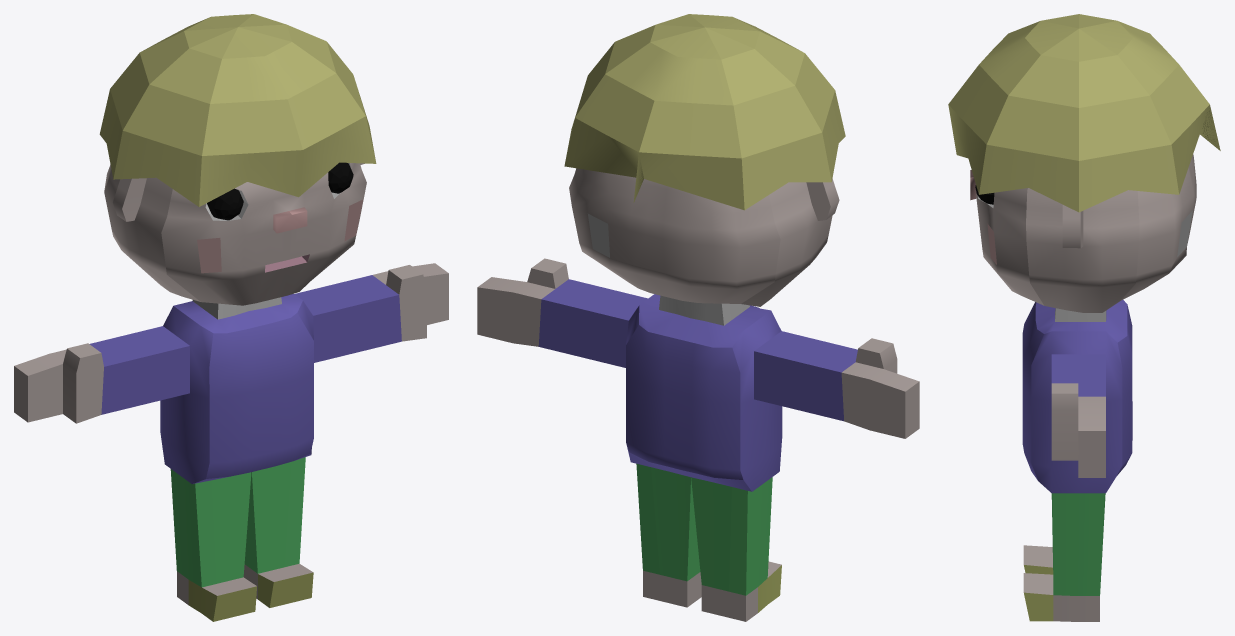
Rendered from boy.fbx.
The picture shows the model from 3 angles, left to right: view 1: azimuth 30°, elevation 25°; view 2: azimuth 150°, elevation 25°; view 3: azimuth 270°, elevation 25°; orthographic projection.
Parts seen in each view (by area): view 1: pSphere6, pSphere3, pSphere7, pSphere5; view 2: pSphere6, pSphere3; view 3: pSphere6, pSphere3.
Boxes of the visible parts, x1,y1,x2,y2 form: pSphere6: [14, 163, 448, 621]; pSphere3: [99, 14, 376, 206]; pSphere7: [207, 188, 243, 220]; pSphere5: [328, 162, 353, 193]; pSphere6: [477, 168, 919, 621]; pSphere3: [564, 14, 845, 210]; pSphere6: [970, 154, 1196, 621]; pSphere3: [948, 14, 1220, 212].
Size of the model in its own units: 3.38 by 4.35 by 1.88.
